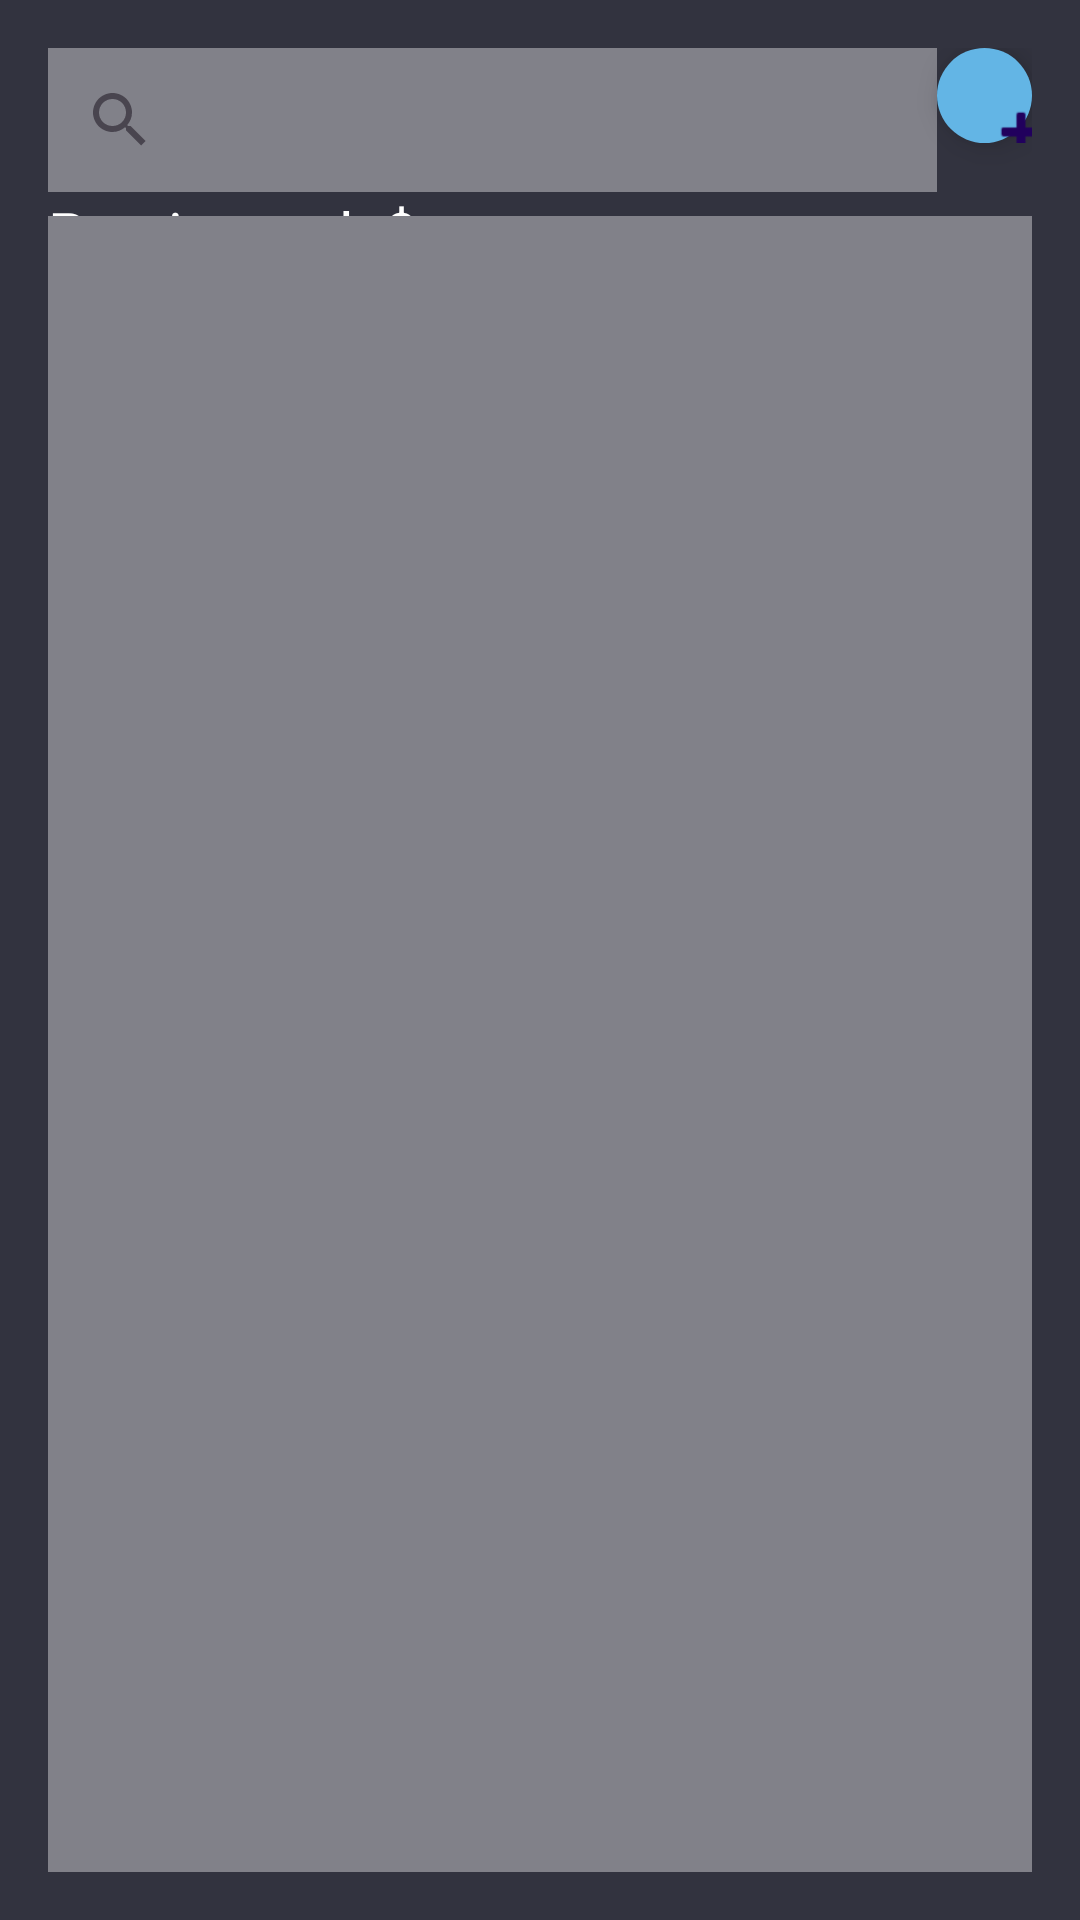

Icon bounding boxes for this 1080×1920 phone screenshot, format (x1, y1, x2, y2):
Agregar producto: (937, 48, 1032, 143)
